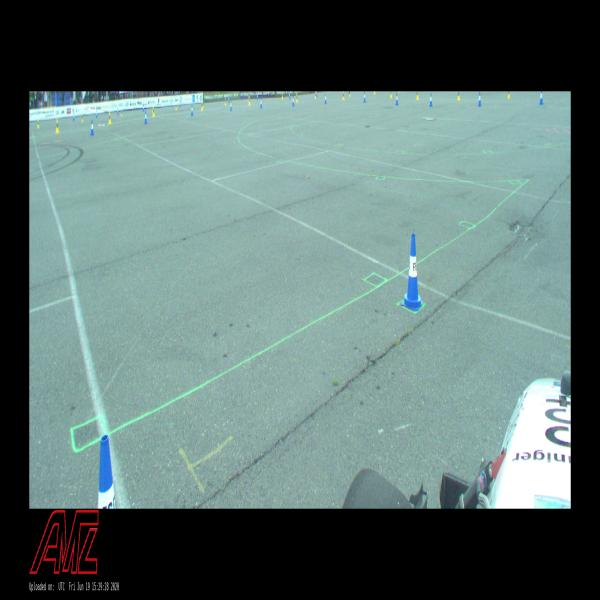blue_cone: (402, 233, 423, 310), (98, 436, 117, 508), (478, 92, 482, 107), (90, 121, 94, 135), (539, 92, 543, 104), (190, 104, 194, 115), (144, 110, 147, 124), (324, 93, 327, 104), (363, 92, 366, 102), (95, 108, 98, 117), (430, 93, 432, 106), (396, 93, 398, 105), (230, 100, 232, 111), (260, 98, 262, 108), (292, 96, 294, 106), (73, 112, 75, 121), (142, 103, 144, 112), (289, 93, 291, 99), (117, 108, 119, 114), (228, 97, 230, 103), (257, 94, 258, 100)
yellow_cone: (56, 119, 59, 132), (108, 112, 111, 123), (416, 91, 419, 100), (81, 113, 84, 122), (457, 92, 460, 100), (120, 109, 123, 117), (153, 106, 155, 117), (314, 92, 317, 98), (342, 91, 344, 100), (37, 120, 39, 128), (296, 94, 298, 102), (201, 102, 203, 110), (248, 97, 250, 105), (508, 91, 510, 99), (348, 92, 351, 97), (390, 91, 392, 98), (373, 91, 376, 95), (203, 100, 204, 108), (225, 98, 226, 105), (176, 103, 177, 110), (282, 93, 283, 99)
